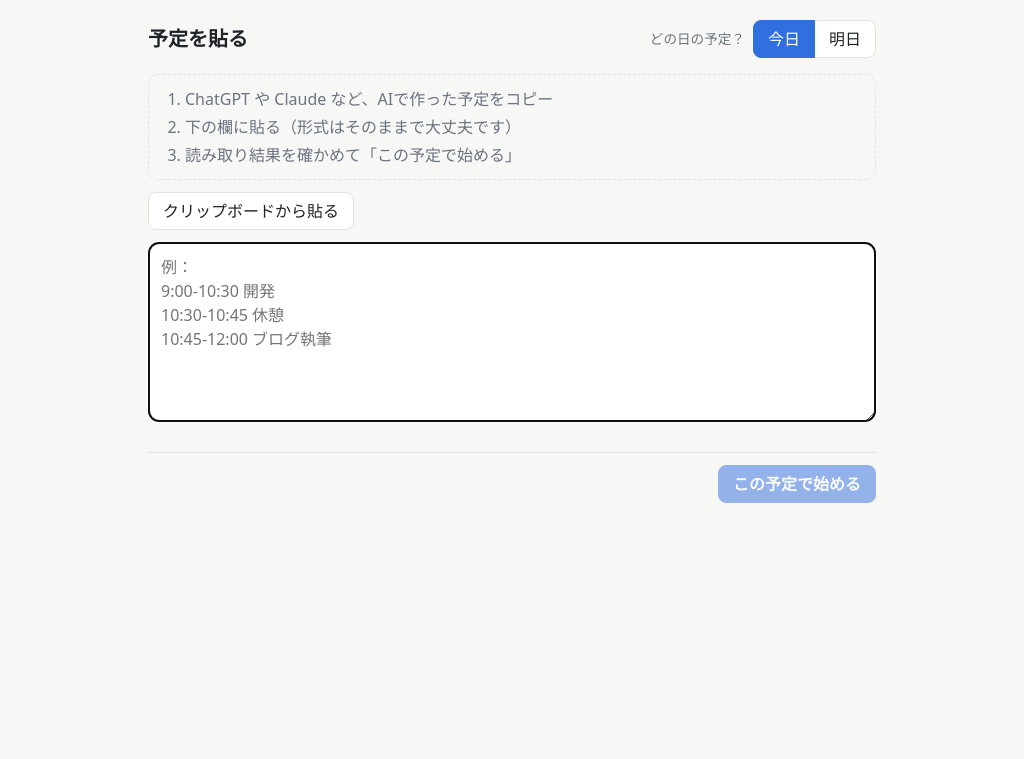
Scenario: 1日の流れ › 進行中はカードの中にアナログタイマーを出し、予定を超えたら超えた表示にする
The image size is (1024, 759).
Type "時間 内容 9:00–10:30 開発①（1.5h） 10:30–10:45 休憩 10:45–12:15 開発②（1.5h） 12:15–13:15 ランニング（60分） 13:15–14:15 シャワー・昼食 14:15–15:45 Notion × Discord連携①（1.5h） 15:45–16:00 休憩 16:00–17:00 Notion × Discord連携②（1h） 17:0" into the text box named "予定のテキスト" at (512, 332), box [148, 242, 876, 422]
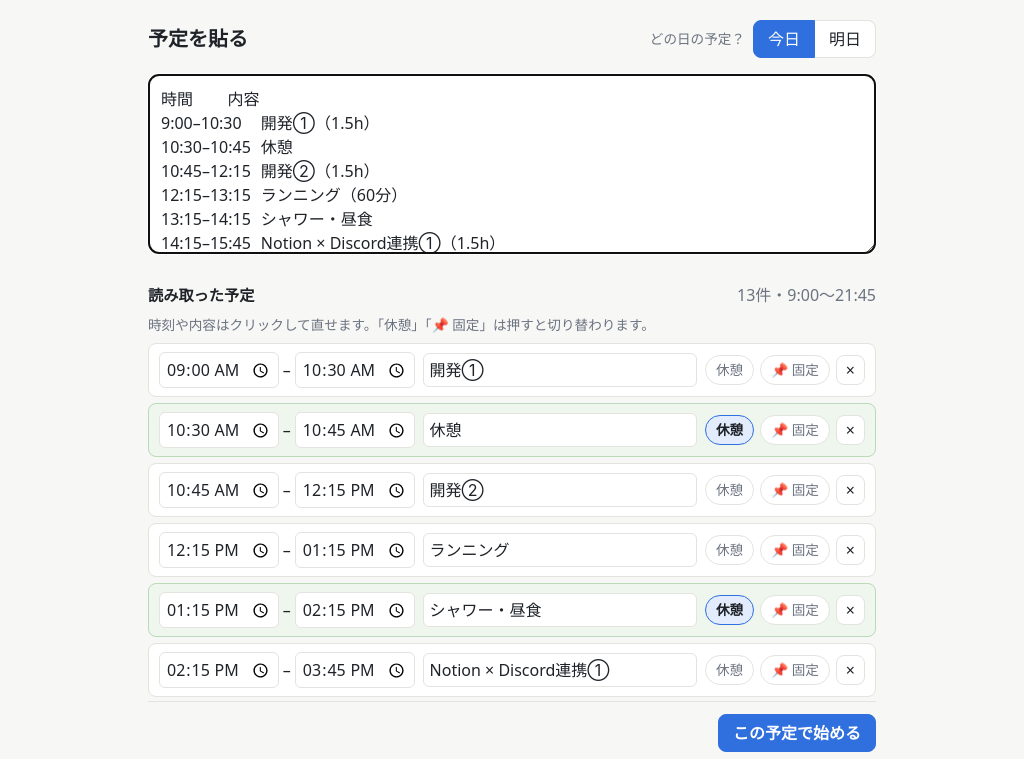
Click the button "この予定で始める" at (797, 733), box [718, 714, 876, 752]
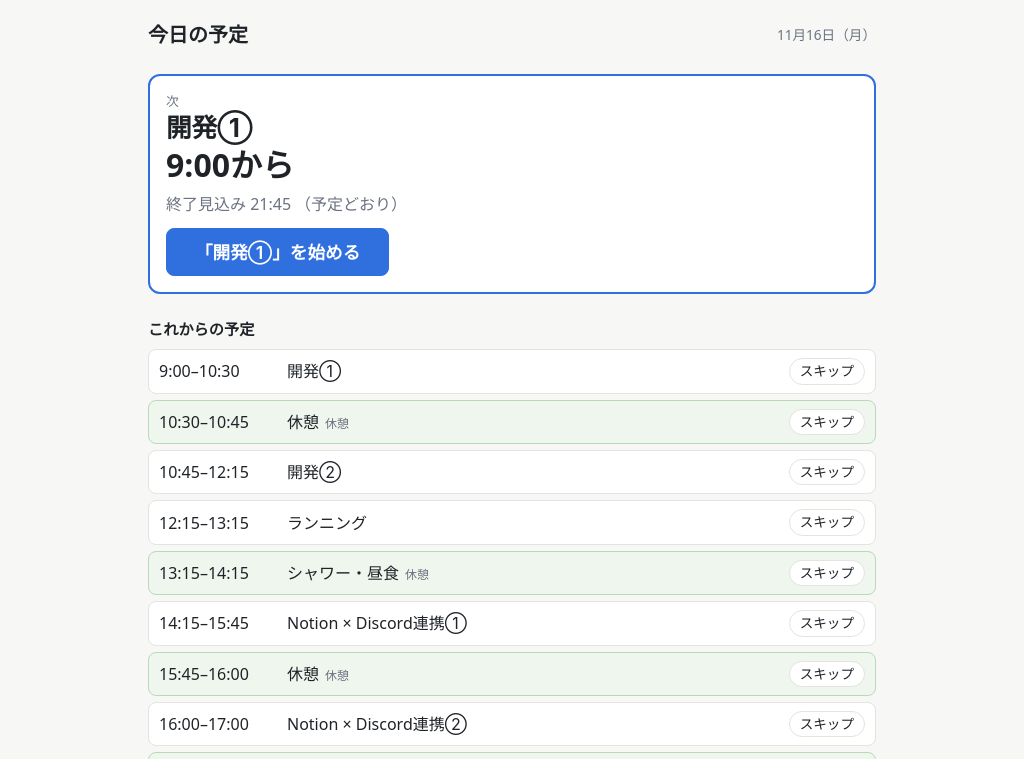
Click the button "「開発①」を始める" at (278, 252), box [166, 228, 389, 276]
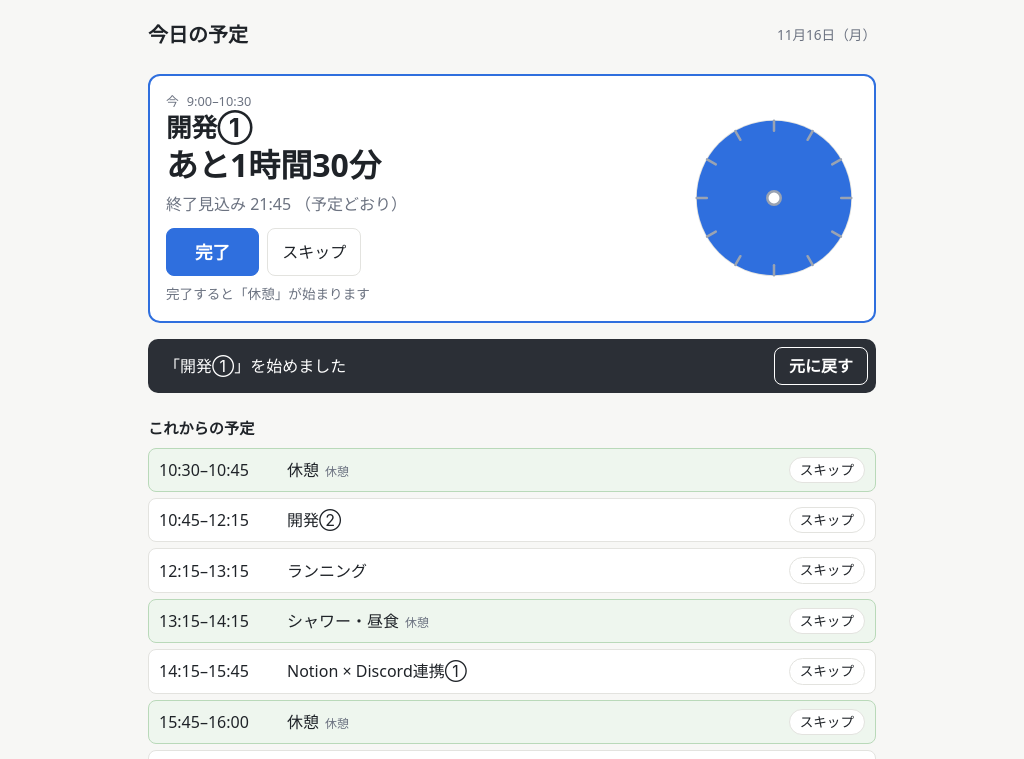
Expected: the element named "残り1時間30分" is shown, [148, 74, 876, 323]
Click the button "スキップ" in the row of "ランニング" at (827, 571), box [789, 557, 865, 584]
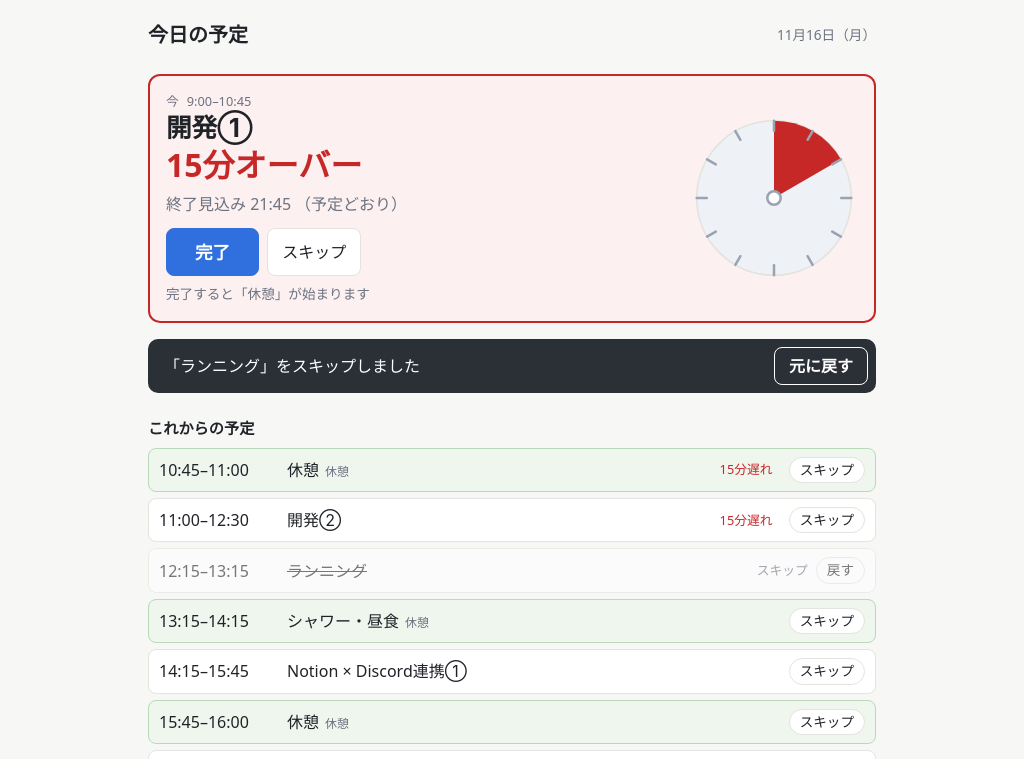
Expected: the picture named "15分オーバー" has class "is-over", [690, 114, 858, 282]
